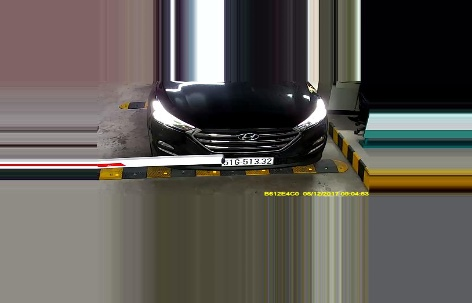plate: (216, 154, 274, 166)
